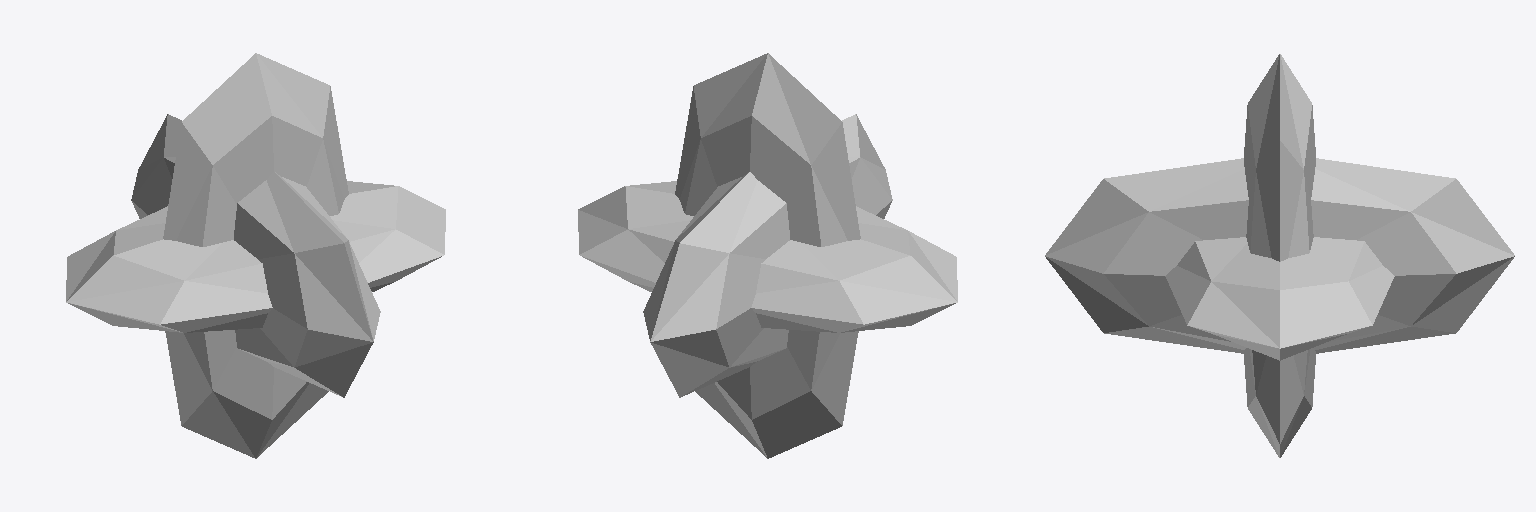
File: threeobjects.obj
The picture shows the model from 3 angles: view 1: azimuth 30°, elevation 25°; view 2: azimuth 150°, elevation 25°; view 3: azimuth 270°, elevation 25°; orthographic projection.
Visible parts, largest first — view 1: pCube4; view 2: pCube4; view 3: pCube4.
Part boxes in pixels (left/top/right/bottom): pCube4: left=66, top=53, right=445, bottom=458; pCube4: left=578, top=53, right=957, bottom=458; pCube4: left=1045, top=54, right=1514, bottom=457.
Bounding box in the file's own units: 1.54 × 1.57 × 1.66.